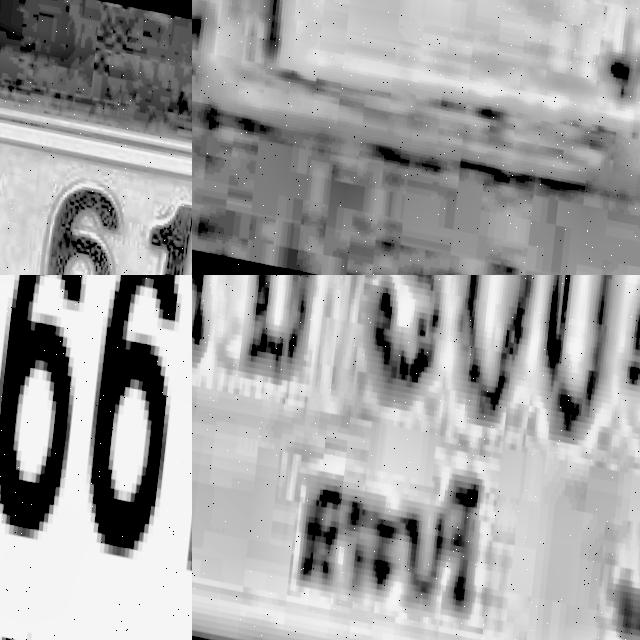license-plate: (192, 275, 640, 640), (199, 0, 640, 192), (0, 275, 192, 640), (0, 31, 192, 275)
